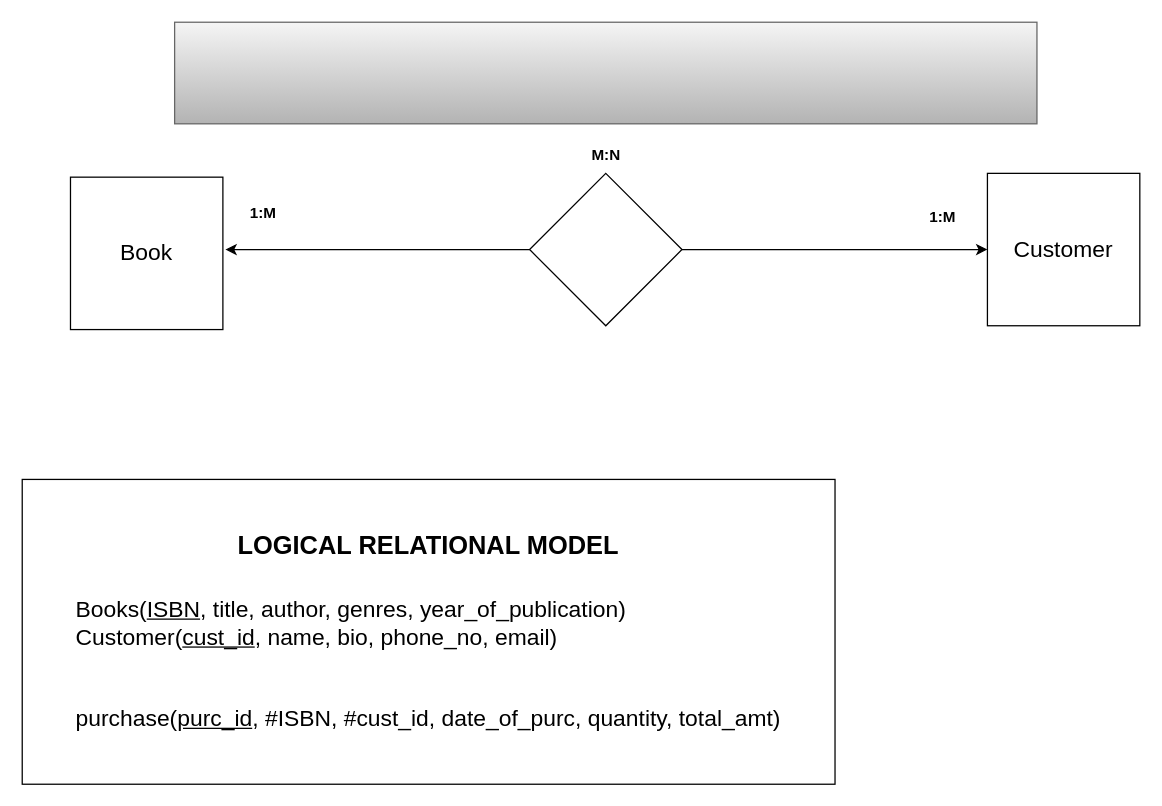
Some shapes in this 1162 by 806 pixel diagram are drawn without their labels. Here are the shapes that lost their labels. From the top down, the box of each, then its label:
(173, 21, 1037, 124): BOOK STORE ENTITY RELATIONSHIP DIAGRAM
(528, 172, 682, 326): purchased
